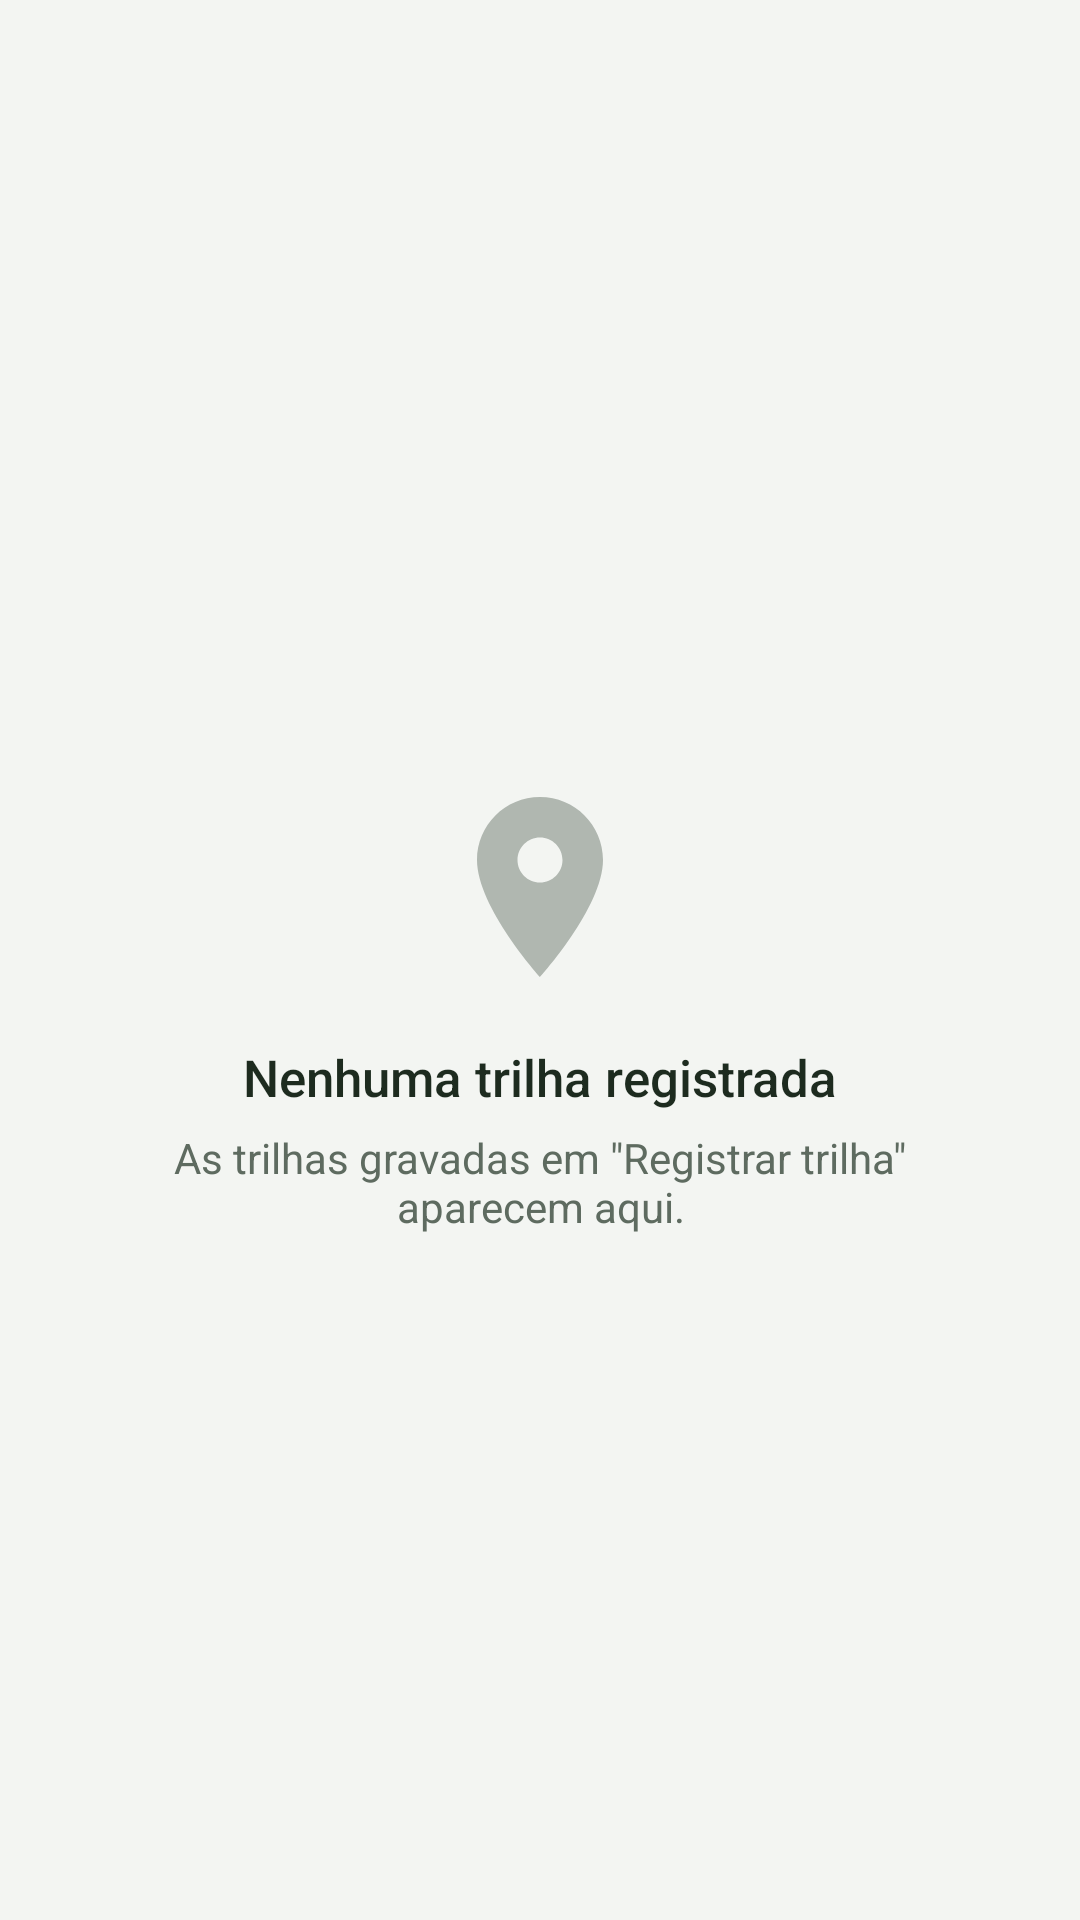

Named icons in this screenshot (1080 × 1920) and their centers, [x,y]:
trilha vazia: [540,887]
